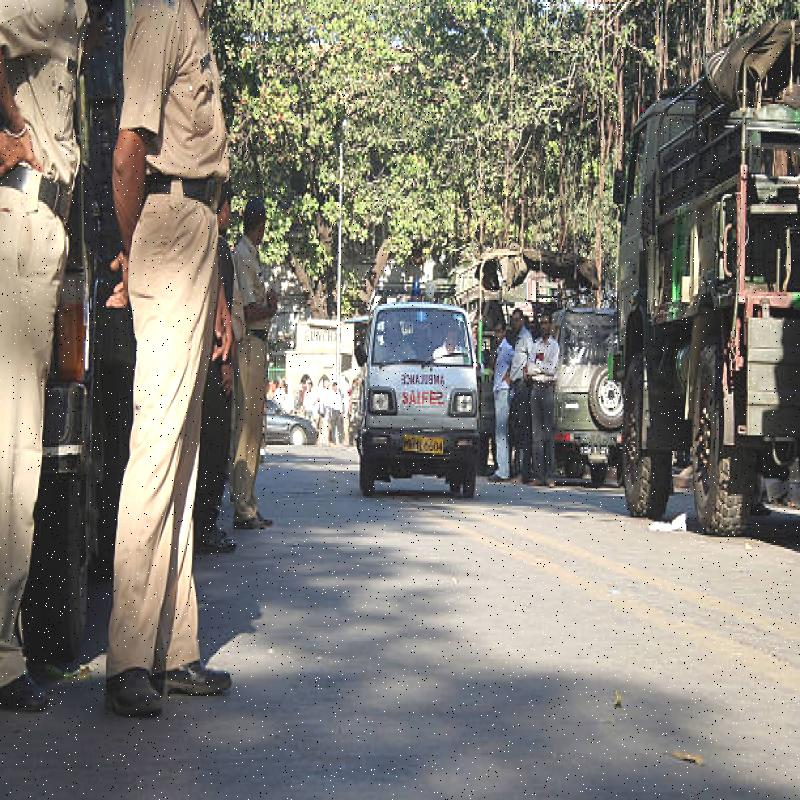ambulance: (349, 260, 485, 499)
